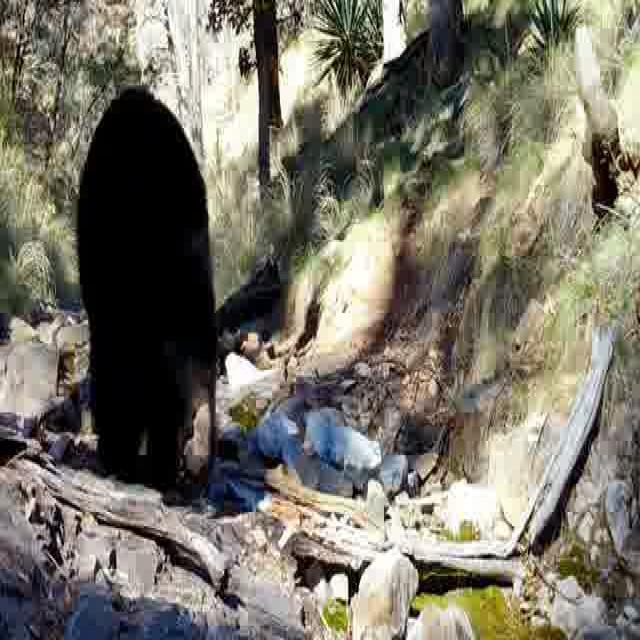bear face: (80, 88, 216, 493)
